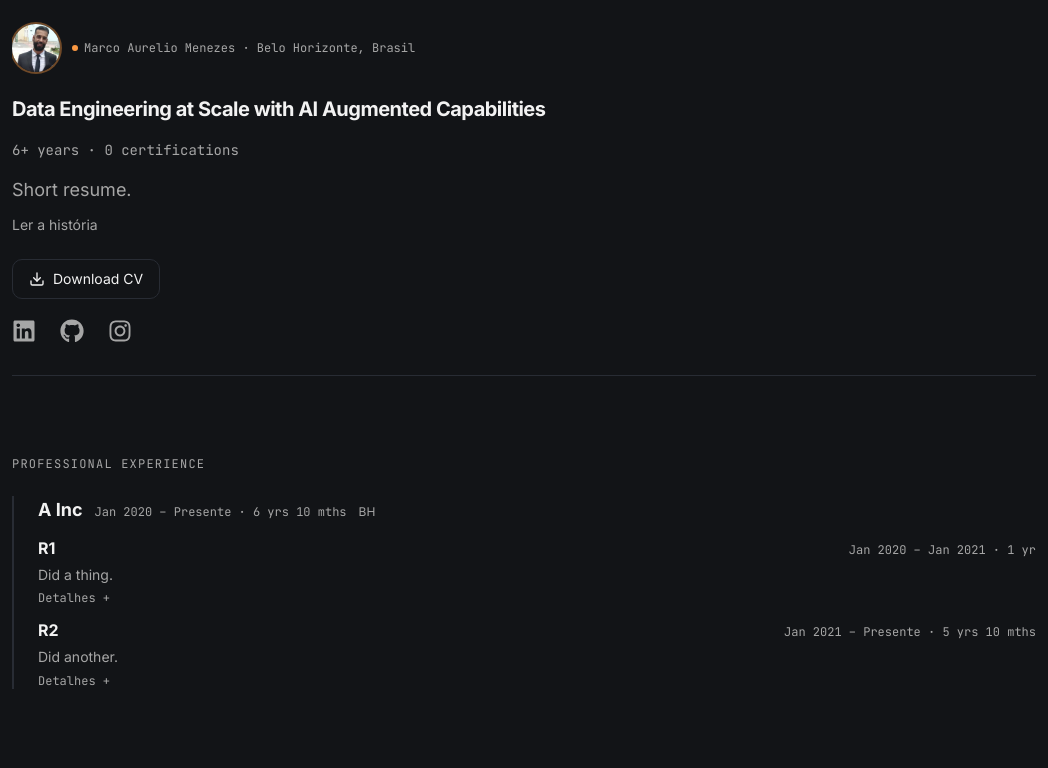
Test: Portfolio › with every role closed, the only disclosures are the story toggle and one Details button per role
Click the button "Detalhes +" below "Did a thing." at {"x": 74, "y": 598}, box 38,590 -> 110,606
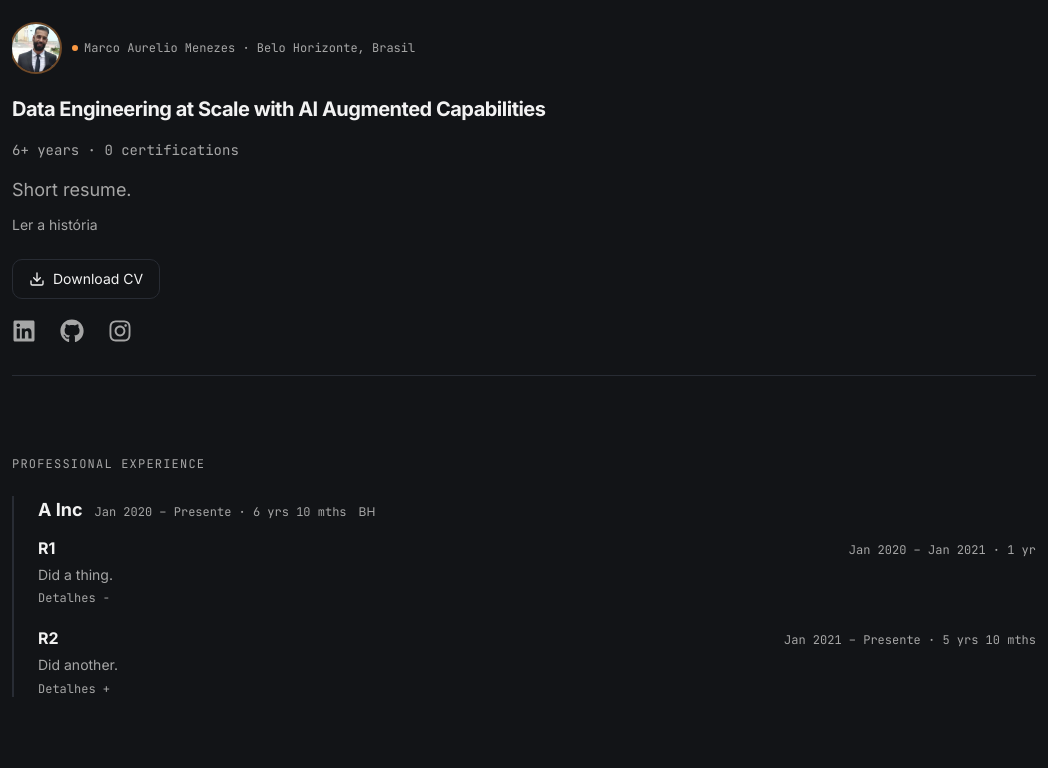
Expected: the button "Detalhes −" is expanded, 38,590 -> 110,606
